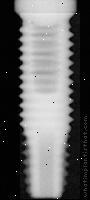Biomet 3i: (16, 12, 81, 200)
